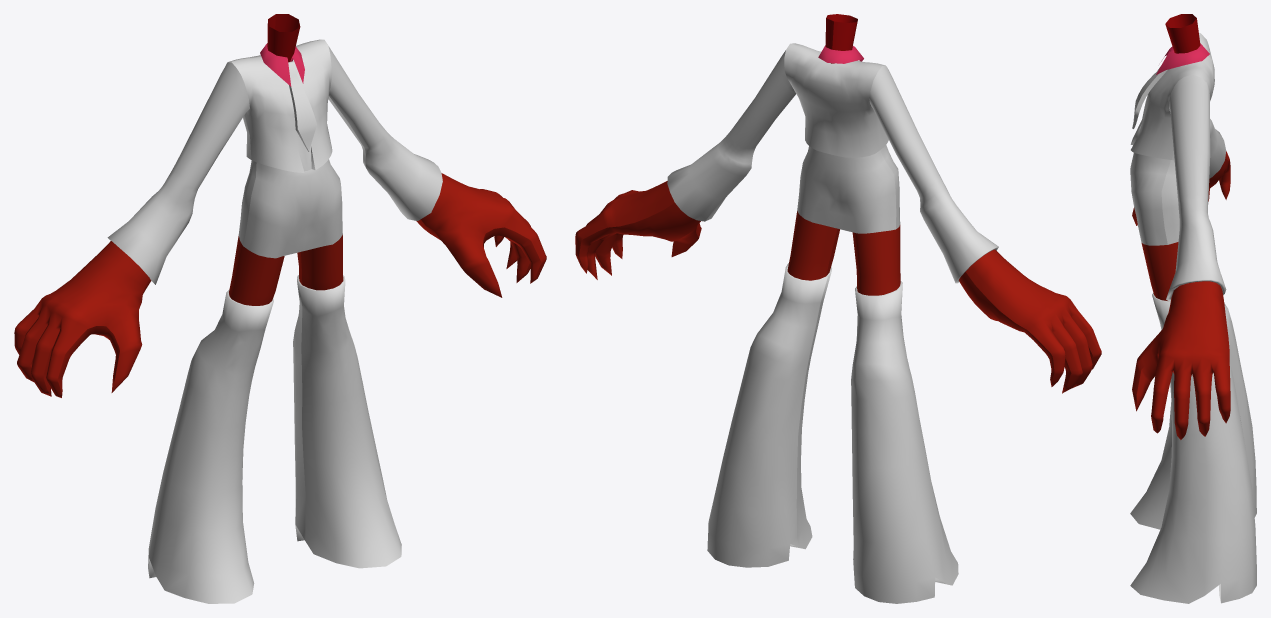
The model's file is SK_Outfit_01.fbx.
The picture shows the model from 3 angles, left to right: view 1: azimuth 30°, elevation 25°; view 2: azimuth 150°, elevation 25°; view 3: azimuth 270°, elevation 25°; orthographic projection. The views are drawn at different scales.
Visible parts, largest first — view 1: SM_Outfit_01; view 2: SM_Outfit_01; view 3: SM_Outfit_01.
Boxes of the visible parts, <box> form: SM_Outfit_01: <box>14,14,546,603</box>; SM_Outfit_01: <box>575,14,1101,603</box>; SM_Outfit_01: <box>1130,14,1256,603</box>.
Bounding box in the file's own units: 38.38 × 39.21 × 8.47.
